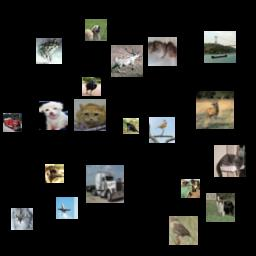airplane: (56, 197, 78, 219)
bird: (169, 216, 198, 245), (149, 117, 175, 143), (45, 164, 64, 183), (82, 77, 101, 96)
cat: (74, 99, 106, 131), (214, 145, 246, 177), (148, 37, 177, 66), (11, 208, 33, 230), (123, 118, 139, 134)
deer: (196, 91, 234, 129), (111, 45, 143, 77)
dog: (206, 193, 235, 222), (39, 101, 68, 130), (85, 19, 107, 41)
frog: (36, 38, 62, 64)
ship: (204, 31, 236, 63)
truck: (86, 165, 124, 203), (181, 179, 200, 198), (3, 113, 22, 132)
